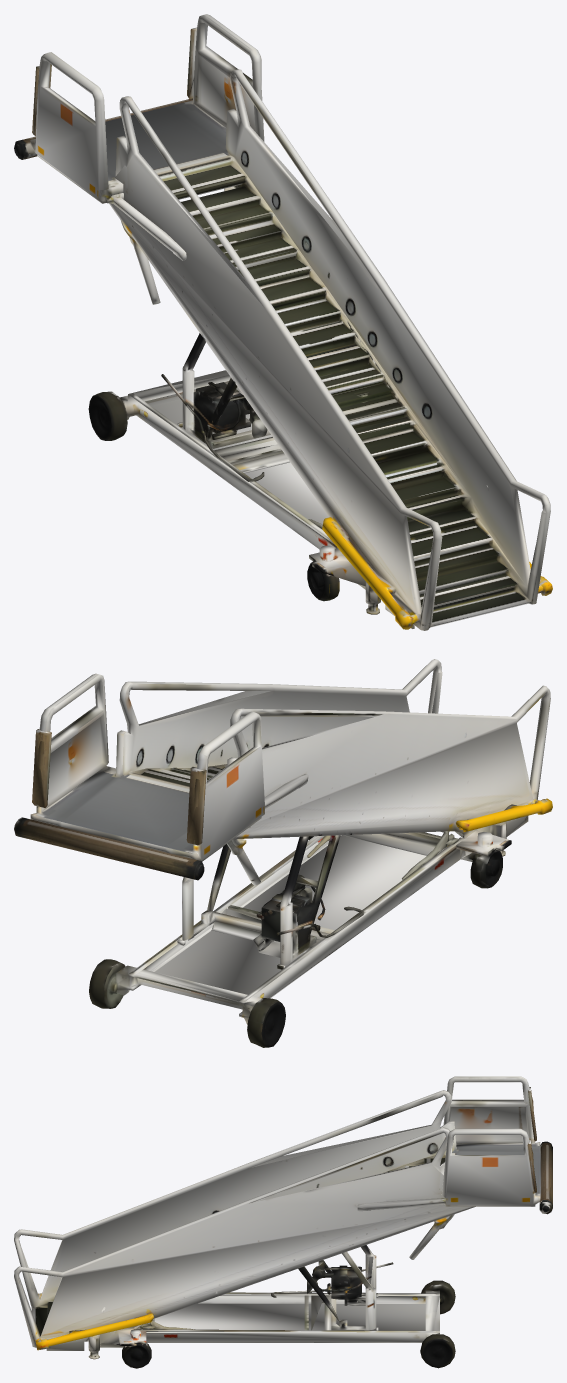
3 renders of one model, top to bottom at view 1: azimuth 30°, elevation 25°; view 2: azimuth 150°, elevation 25°; view 3: azimuth 270°, elevation 25°, orthographic. The views are drawn at different scales.
Parts seen in each view (by area): view 1: texture_pbr_20250901; view 2: texture_pbr_20250901; view 3: texture_pbr_20250901.
Boxes of the visible parts, bbox=[...] form: texture_pbr_20250901: bbox=[14, 14, 552, 630]; texture_pbr_20250901: bbox=[14, 659, 552, 1047]; texture_pbr_20250901: bbox=[14, 1076, 552, 1368].
Bounding box in the file's own units: 0.5331 × 0.9217 × 1.9.
1 material, 1 textured.
